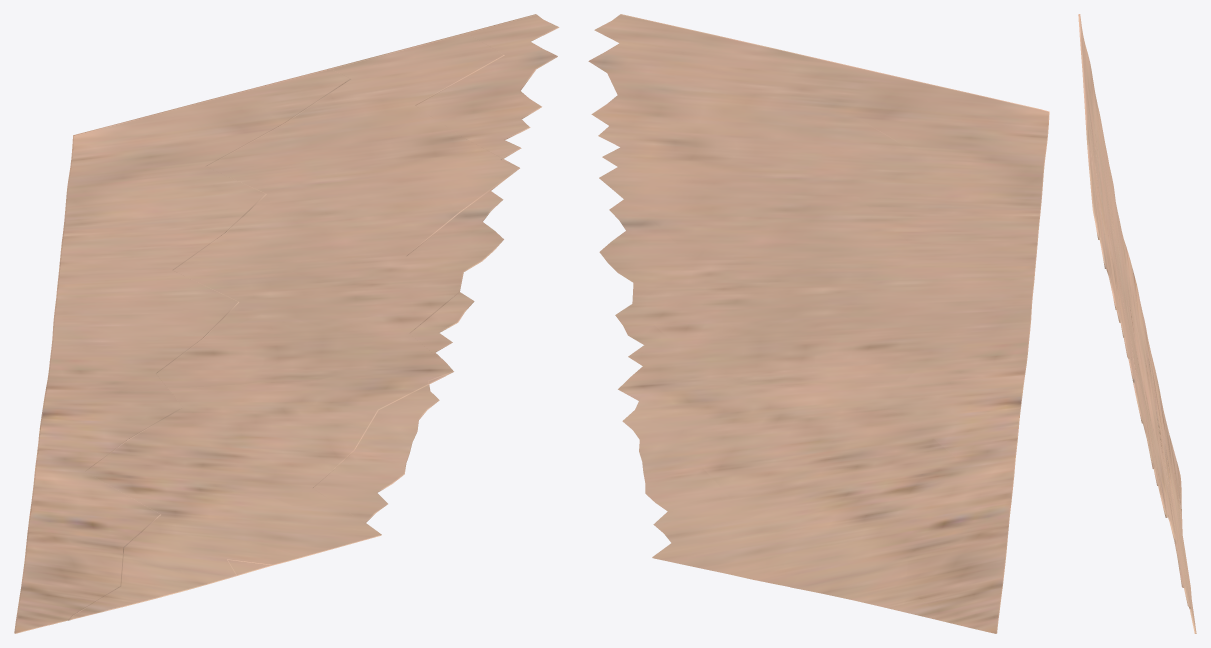
3 views of the same model, side by side, from view 1: azimuth 30°, elevation 25°; view 2: azimuth 150°, elevation 25°; view 3: azimuth 270°, elevation 25° (orthographic). The views are drawn at different scales.
Bounding box in the file's own units: 26.9 × 27.83 × 6.44.
1 material, 1 textured.
